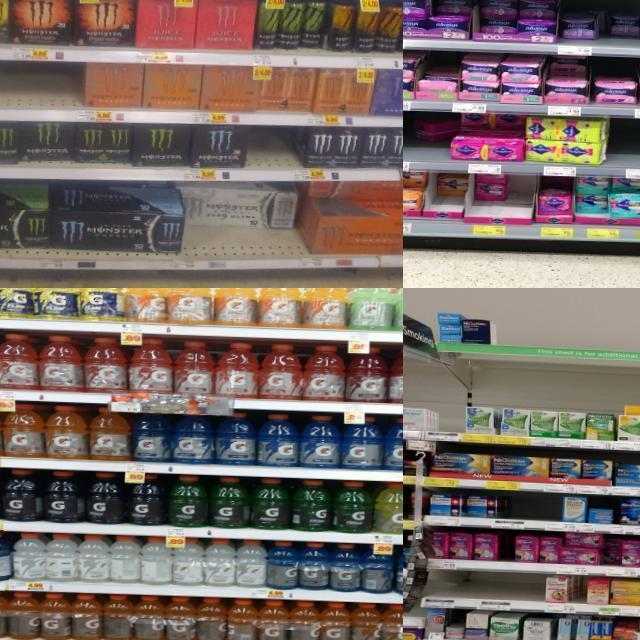Imprecise: (183, 178, 310, 258), (427, 166, 538, 219), (479, 0, 562, 46), (456, 115, 524, 164), (547, 58, 597, 112), (405, 112, 455, 160), (569, 170, 613, 220), (433, 0, 478, 43), (429, 169, 468, 214), (471, 172, 508, 216), (610, 172, 640, 226), (600, 1, 640, 41), (603, 536, 621, 566)
